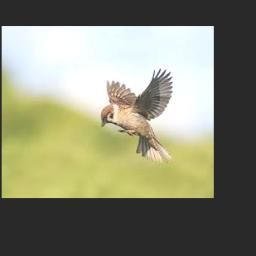Sparrow: (100, 69, 172, 164)
